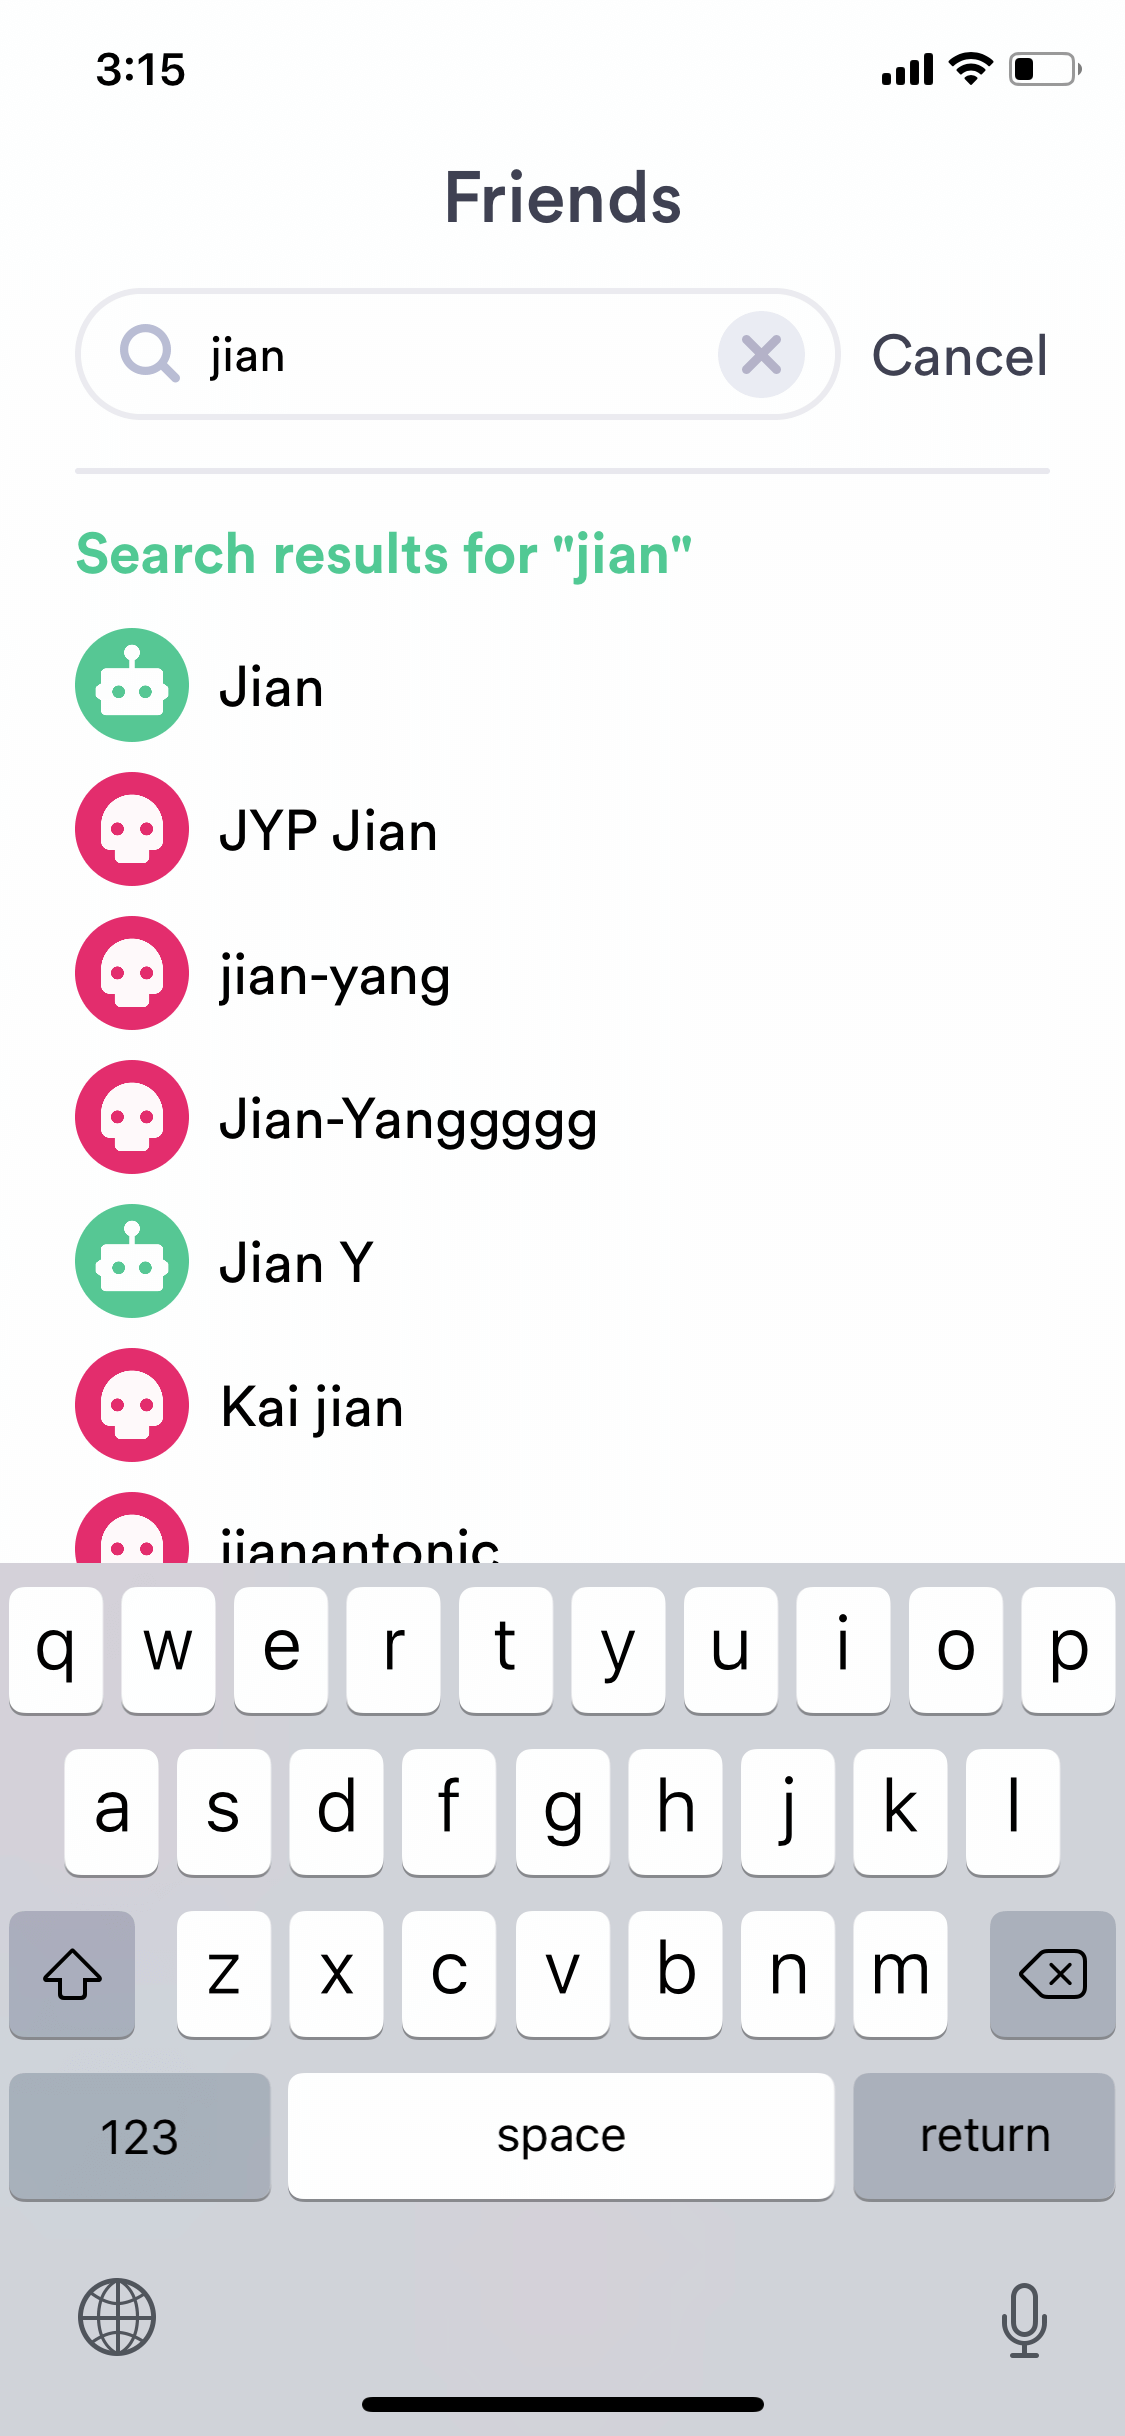Buttons: (848, 287, 1071, 419)
